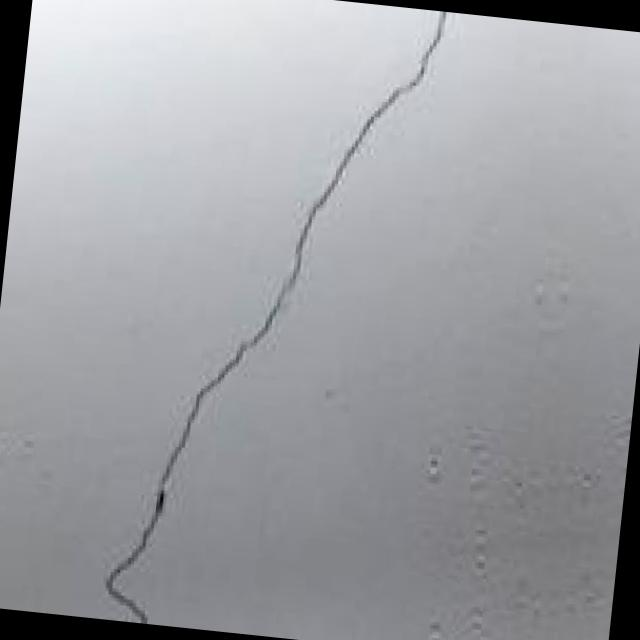crack: (86, 0, 471, 640)
